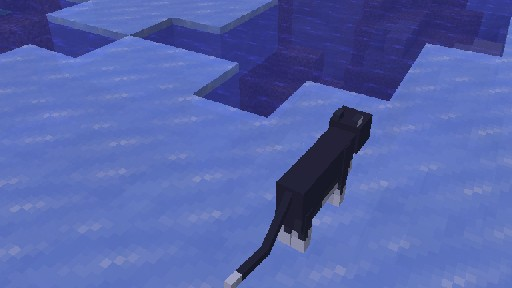cat: (223, 104, 373, 288)
